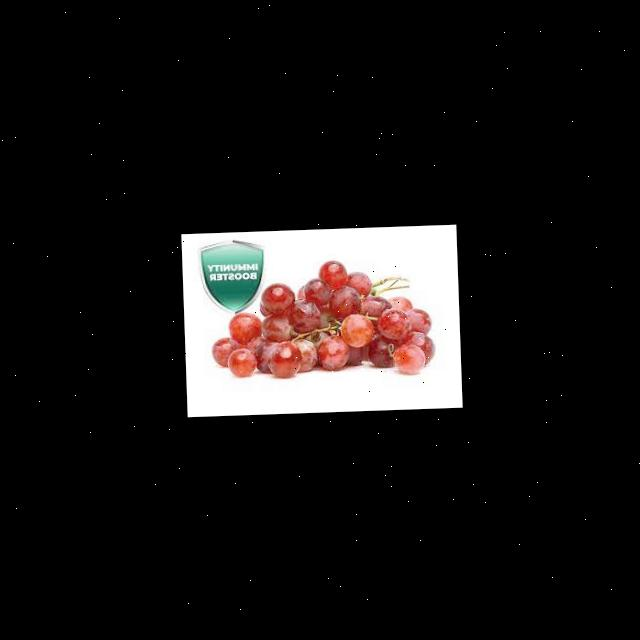grape: (208, 256, 436, 380)
